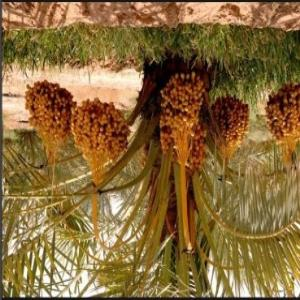palm tree: (2, 21, 299, 296)
